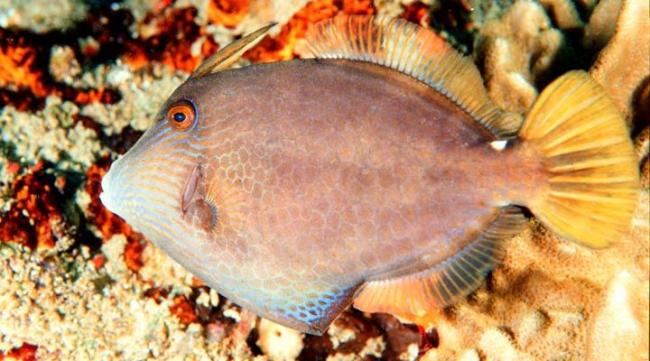fish: (102, 18, 639, 333)
